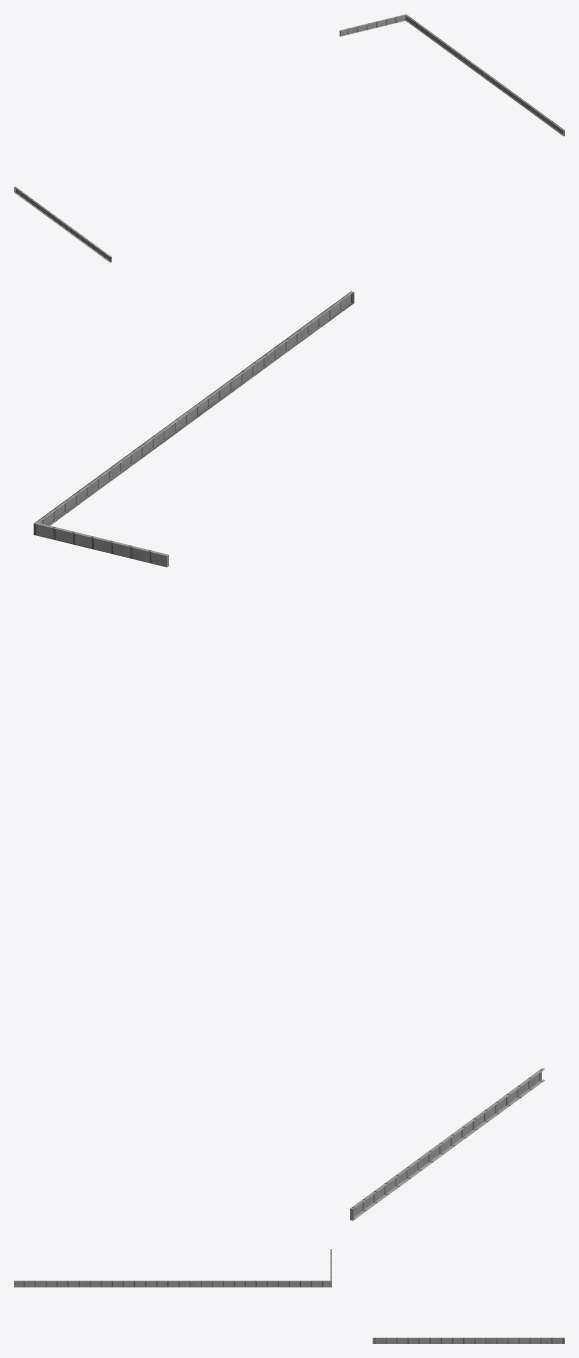
Rendered from arq_hileratabique.FBX.
3 renders of one model, top to bottom at view 1: azimuth 30°, elevation 25°; view 2: azimuth 150°, elevation 25°; view 3: azimuth 270°, elevation 25°, orthographic. The views are drawn at different scales.
Visible parts, largest first — view 1: arq_hilera003; view 2: arq_hilera003; view 3: arq_hilera003.
Part boxes in pixels (bbox=[...]): arq_hilera003: bbox=[14, 14, 564, 262]; arq_hilera003: bbox=[33, 291, 544, 1220]; arq_hilera003: bbox=[14, 1249, 564, 1343].
Bounding box in the file's own units: 5.09 × 3.46 × 8.79.
Materials: 1 (1 with a texture image).
